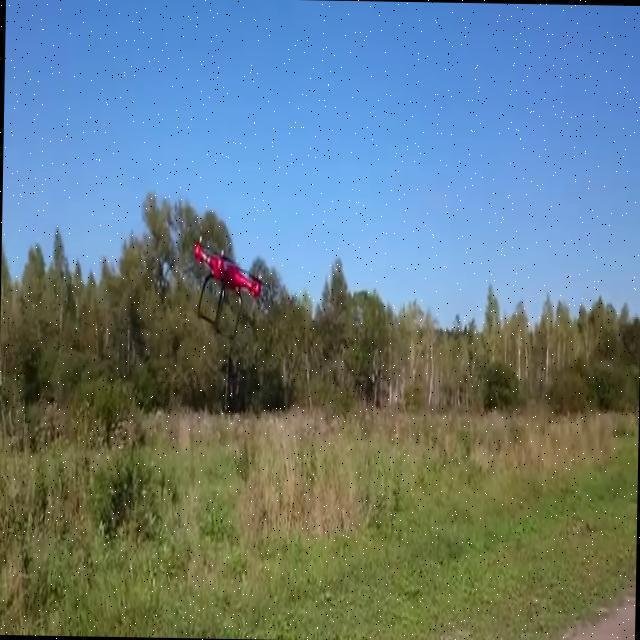Drons: (181, 232, 268, 346)
